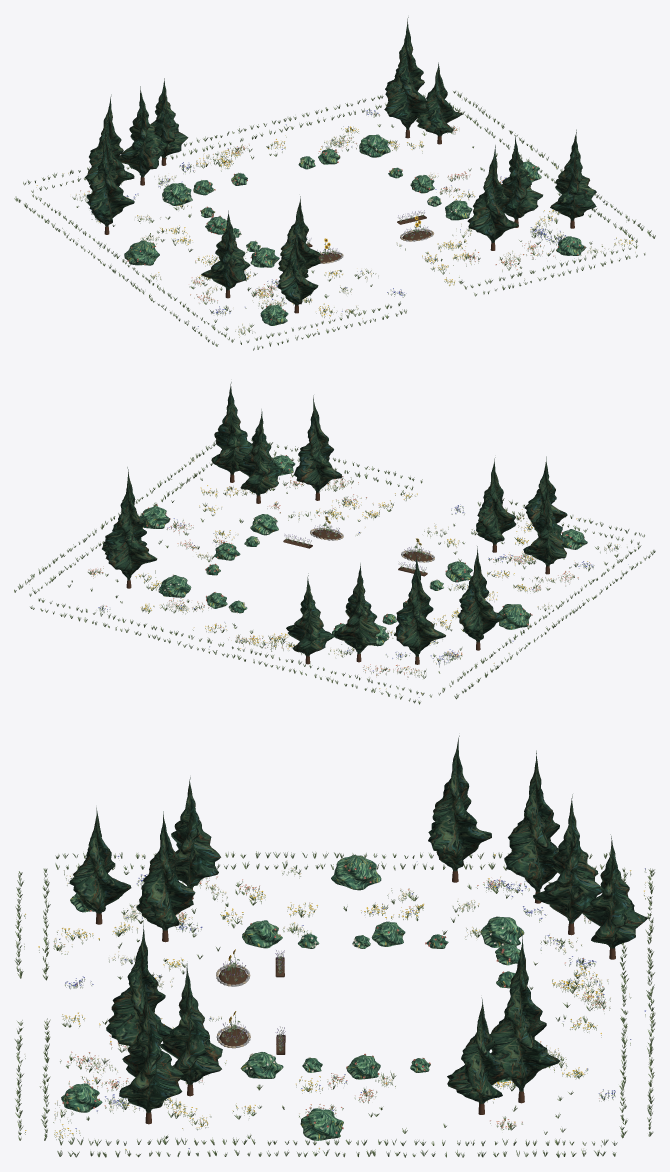
The model's file is Museum_Ext_Vegetation.fbx.
The picture shows the model from 3 angles, top to bottom: view 1: azimuth 30°, elevation 25°; view 2: azimuth 150°, elevation 25°; view 3: azimuth 270°, elevation 25°; orthographic projection. The views are drawn at different scales.
Parts seen in each view (by area): view 1: Veg_Cypresses, Veg_Bushes, Veg_Meadow, Veg_FenceGrass, Veg_FlowerBeds; view 2: Veg_Cypresses, Veg_Meadow, Veg_Bushes, Veg_FenceGrass, Veg_FlowerBeds; view 3: Veg_Cypresses, Veg_Bushes, Veg_Meadow, Veg_FenceGrass, Veg_FlowerBeds.
Part boxes in pixels (<box>): Veg_Cypresses: <box>85,17,596,313</box>; Veg_Bushes: <box>124,134,586,325</box>; Veg_Meadow: <box>70,109,633,337</box>; Veg_FenceGrass: <box>14,91,655,350</box>; Veg_FlowerBeds: <box>284,210,433,263</box>; Veg_Cypresses: <box>102,382,567,664</box>; Veg_Meadow: <box>67,455,627,678</box>; Veg_Bushes: <box>140,455,587,646</box>; Veg_FenceGrass: <box>14,439,655,704</box>; Veg_FlowerBeds: <box>283,516,434,576</box>; Veg_Cypresses: <box>69,735,648,1124</box>; Veg_Bushes: <box>61,855,524,1140</box>; Veg_Meadow: <box>53,867,615,1140</box>; Veg_FenceGrass: <box>14,851,655,1157</box>; Veg_FlowerBeds: <box>216,949,285,1054</box>.
Bounding box in the file's own units: 43.3 × 11.46 × 38.75.
